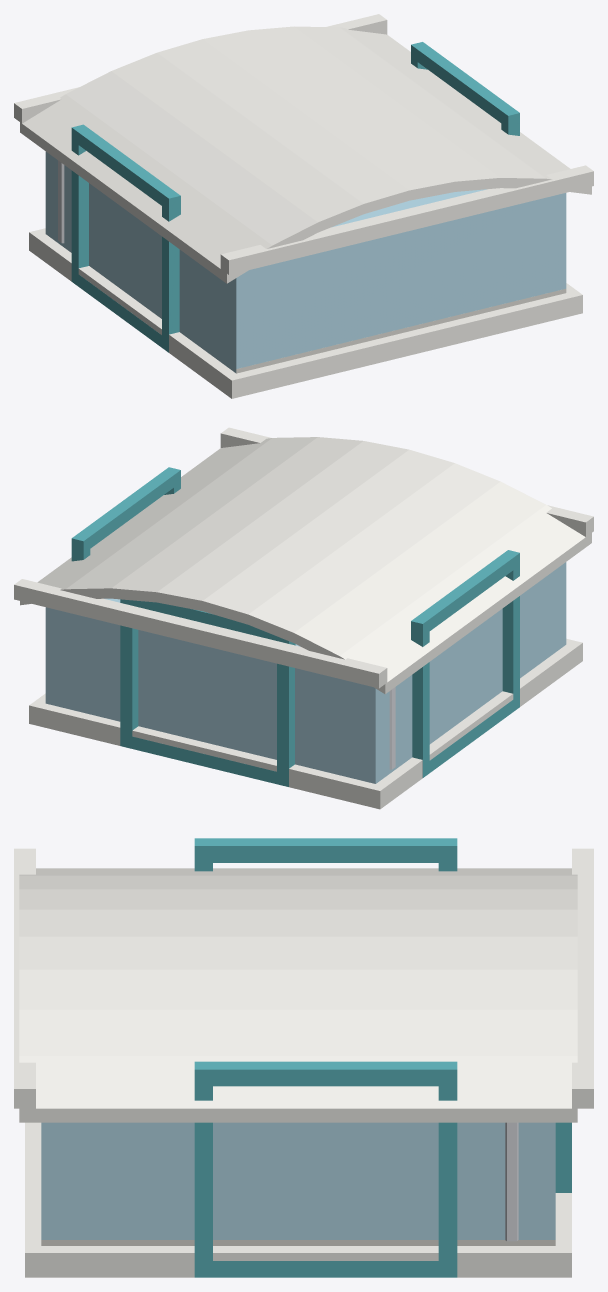
Rendered from arcology-towers-and-skyways-skyway-junction-tee-3a17db32__23250.glb.
The picture shows the model from 3 angles, top to bottom: view 1: azimuth 30°, elevation 25°; view 2: azimuth 150°, elevation 25°; view 3: azimuth 270°, elevation 25°; orthographic projection. The views are drawn at different scales.
Parts seen in each view (by area): view 1: skyway-junction-tee; view 2: skyway-junction-tee; view 3: skyway-junction-tee.
Boxes of the visible parts, <box> form: skyway-junction-tee: <box>14,14,593,398</box>; skyway-junction-tee: <box>14,427,593,809</box>; skyway-junction-tee: <box>14,838,593,1277</box>.
Bounding box in the file's own units: 10.4 × 4.55 × 10.6.
